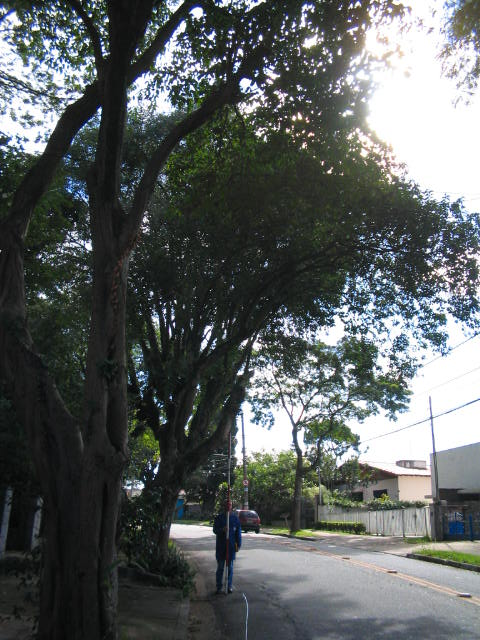crown: (137, 126, 477, 455)
stem: (129, 453, 202, 576)
stick: (221, 431, 237, 594)
tree: (133, 122, 479, 579)
